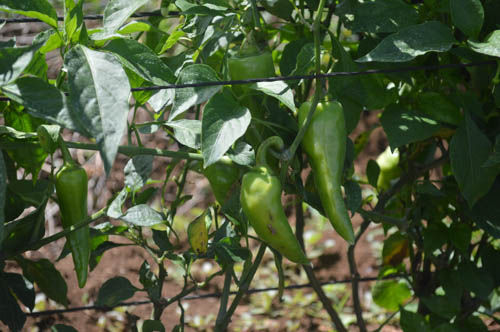ChiliPepper: (299, 102, 355, 245), (245, 172, 303, 263), (56, 169, 89, 289), (227, 55, 273, 120)
